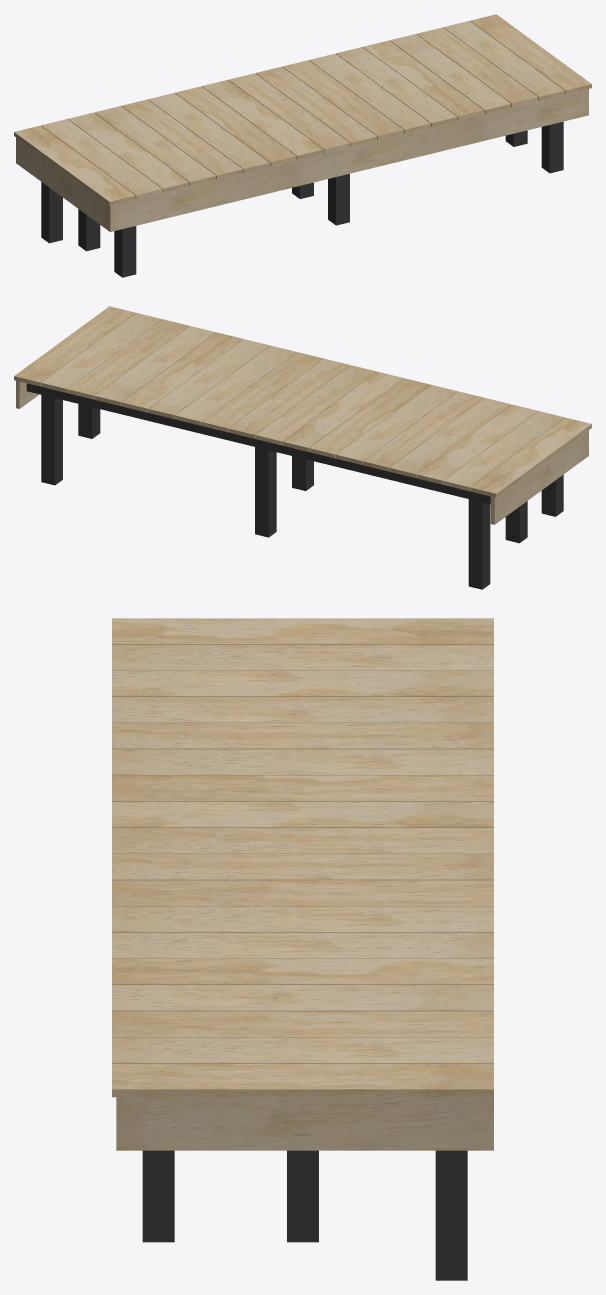
Rendered from roawooddeck_h550-15k-3s_matlightgrey.fbx.
3 renders of one model, top to bottom at view 1: azimuth 30°, elevation 25°; view 2: azimuth 150°, elevation 25°; view 3: azimuth 270°, elevation 25°, orthographic. The views are drawn at different scales.
Parts seen in each view (by area): view 1: roawooddeck_h550-15k-3s_silvergray.001; view 2: roawooddeck_h550-15k-3s_silvergray.001; view 3: roawooddeck_h550-15k-3s_silvergray.001.
Part boxes in pixels (x1=…): roawooddeck_h550-15k-3s_silvergray.001: x1=14, y1=14, x2=591, y2=277; roawooddeck_h550-15k-3s_silvergray.001: x1=14, y1=306, x2=591, y2=589; roawooddeck_h550-15k-3s_silvergray.001: x1=112, y1=618, x2=493, y2=1280.
Bounding box in the file's own units: 262 × 55 × 90.
Materials: 2 (2 with a texture image).
